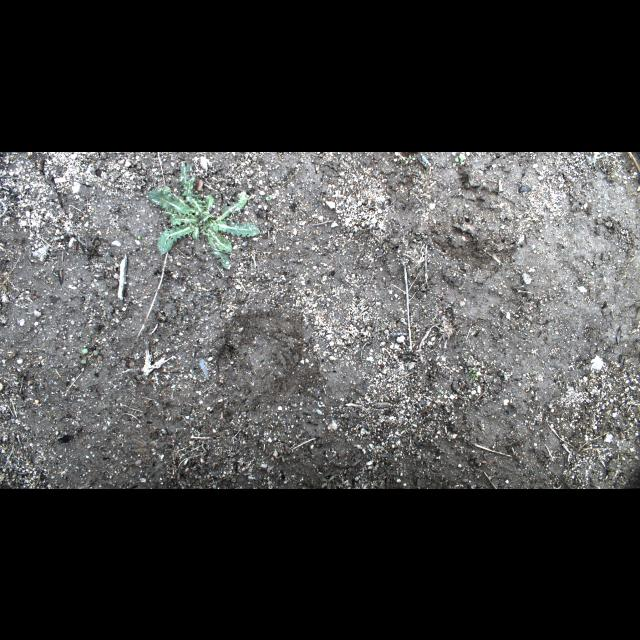weed: (144, 162, 260, 268)
